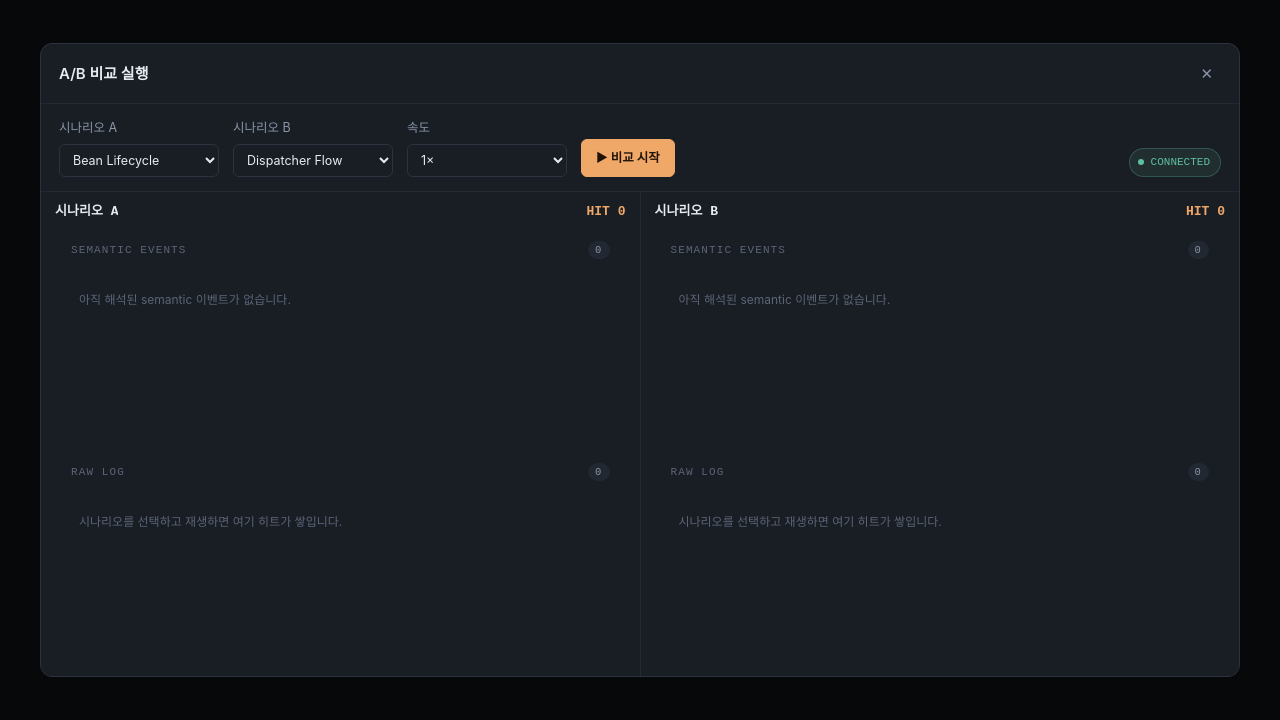
Test: ComparisonModal › stops both sides and re-enables setup on 비교 종료, without duplicating the stop on unmount
The width and height of the screenshot is (1280, 720).
Check: the 1st dropdown shows "Bean Lifecycle", box left=59, top=144, right=219, bottom=177
Click the button "▶ 비교 시작". click: x=628, y=158
box: left=581, top=140, right=675, bottom=177
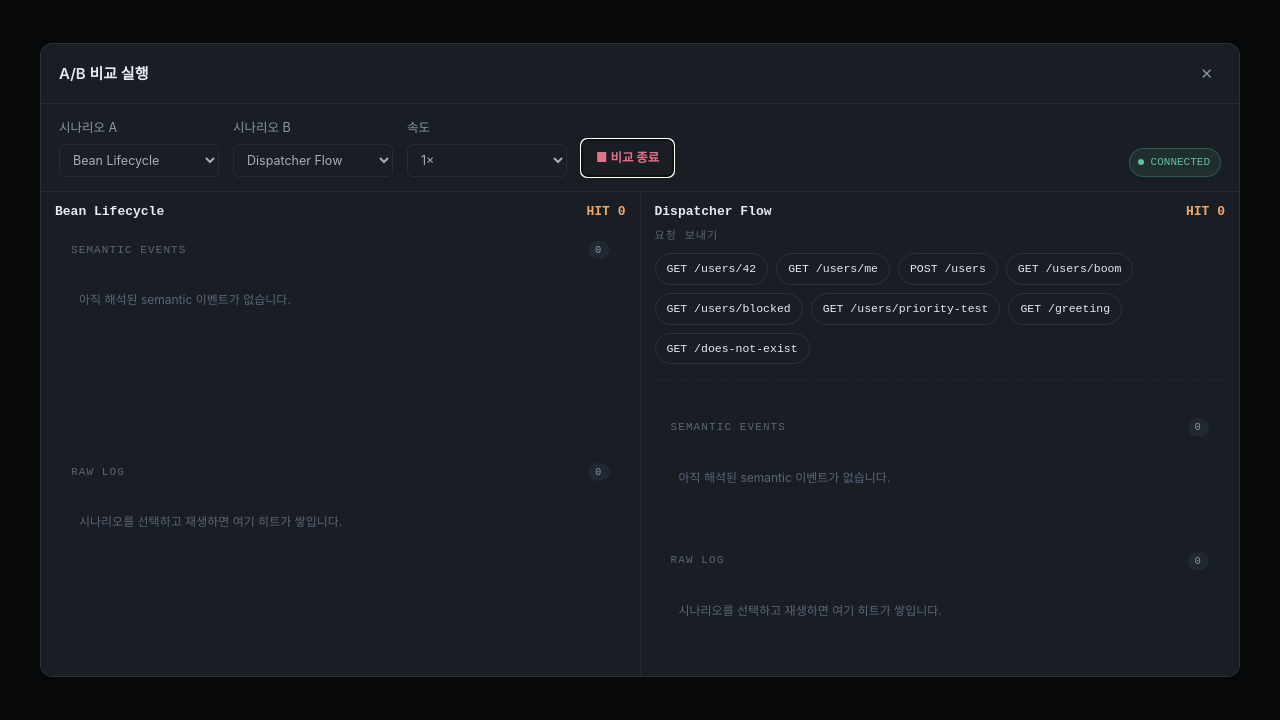
Click the button "■ 비교 종료". click: x=628, y=158
box: left=581, top=140, right=674, bottom=177
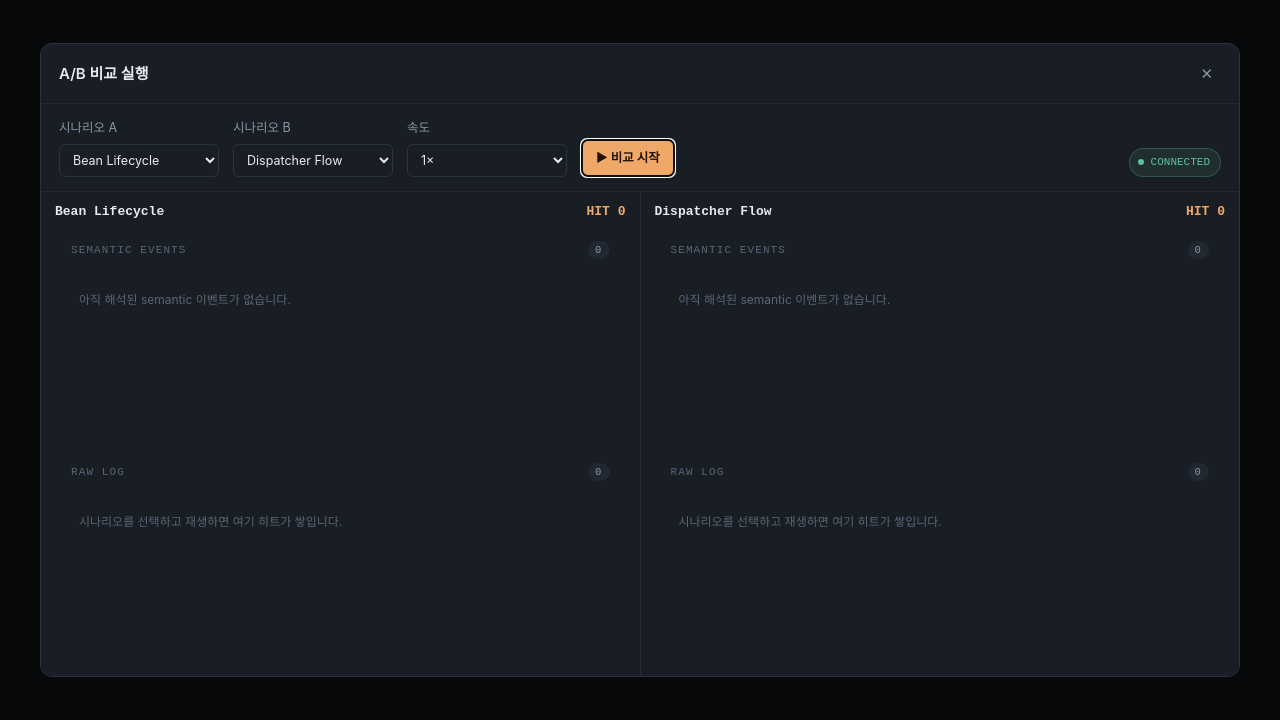
Check: the button "▶ 비교 시작" is shown, box left=581, top=140, right=675, bottom=177
